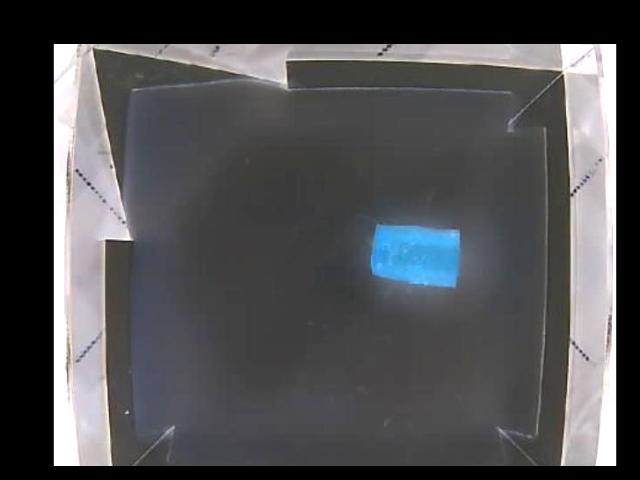Carrot: (371, 223, 463, 288)
